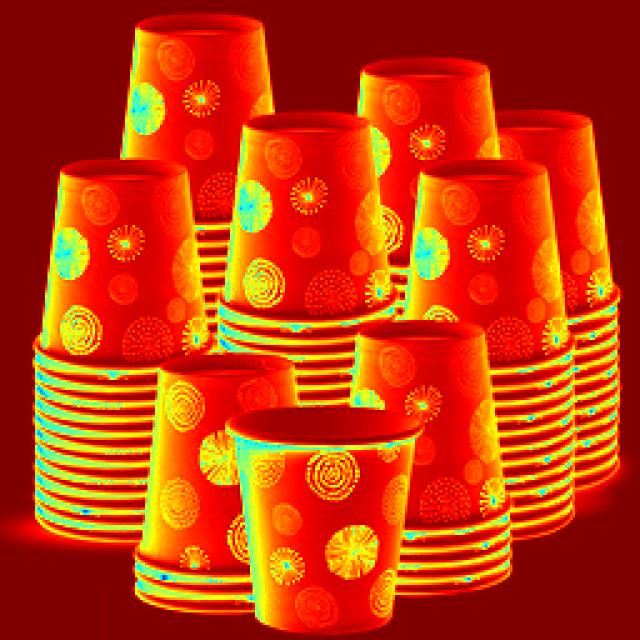Paper Cups: (238, 418, 409, 640), (228, 119, 388, 329), (402, 170, 559, 374), (360, 318, 485, 570), (64, 148, 199, 364), (145, 358, 253, 586), (115, 25, 269, 179), (512, 105, 618, 298), (364, 62, 484, 173)
